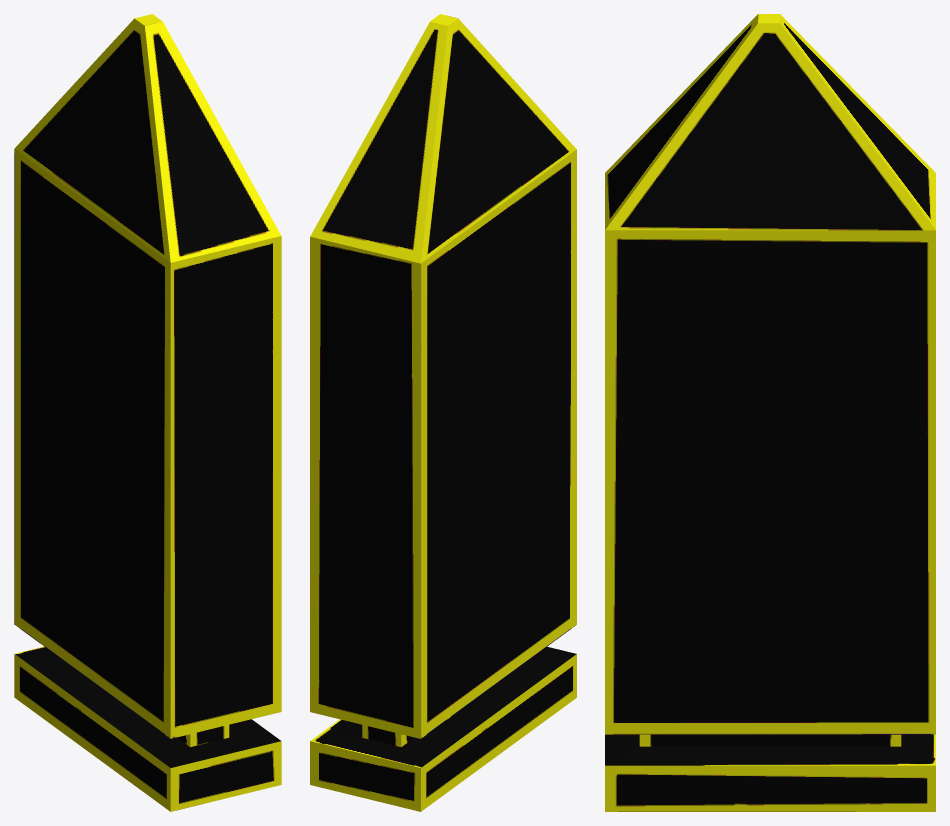
The model's file is amo_v3.fbx.
The picture shows the model from 3 angles, left to right: view 1: azimuth 30°, elevation 25°; view 2: azimuth 150°, elevation 25°; view 3: azimuth 270°, elevation 25°; orthographic projection. The views are drawn at different scales.
Visible parts, largest first — view 1: Cube; view 2: Cube; view 3: Cube.
Part boxes in pixels (left/top/right/bottom): Cube: left=14, top=14, right=281, bottom=811; Cube: left=310, top=14, right=576, bottom=811; Cube: left=605, top=14, right=935, bottom=811.
Size of the model in its own units: 8.19 by 50.98 by 20.
